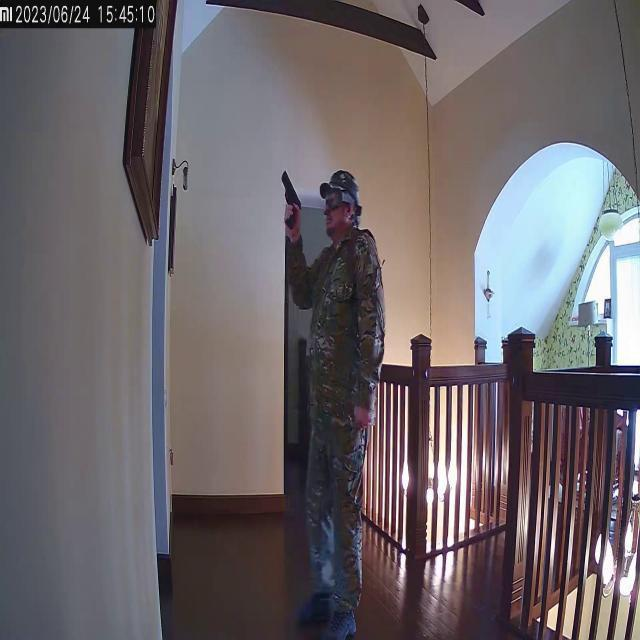pistol: (280, 168, 302, 228)
